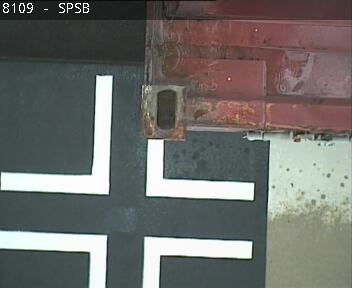groundmarker_1: (1, 74, 254, 204), (1, 229, 253, 288)
